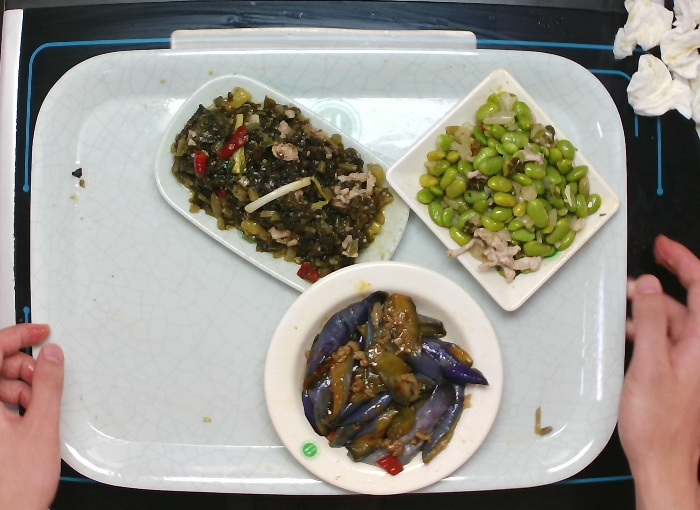WCQzf-Bai_Se_Si_Fang_Die: (383, 66, 620, 316)
WCQzf-Kuan_Bian_Yuan_Die: (257, 254, 506, 499)
WCQzf-Tuo_Yuan_Pan: (150, 68, 418, 303)
